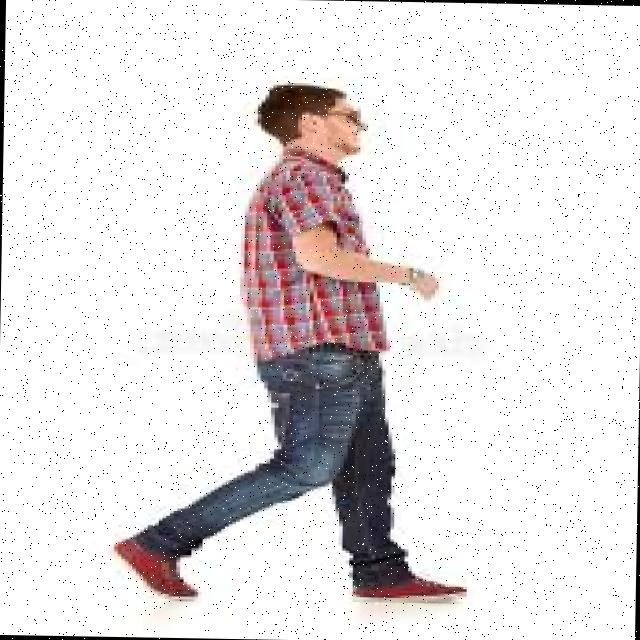Person: (110, 78, 480, 609)
